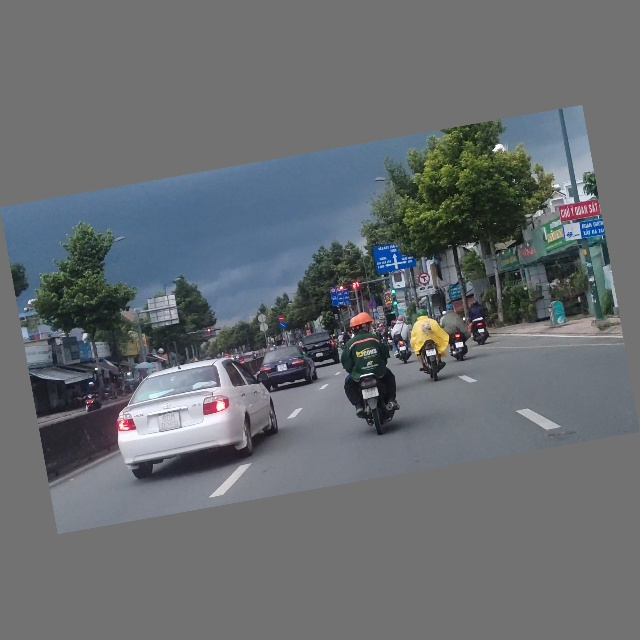P.102: (278, 315, 286, 323)
P.131a: (367, 301, 376, 310)
P.137: (417, 273, 431, 286)
R.302a: (279, 323, 286, 329)
R.415a: (330, 291, 350, 308)
